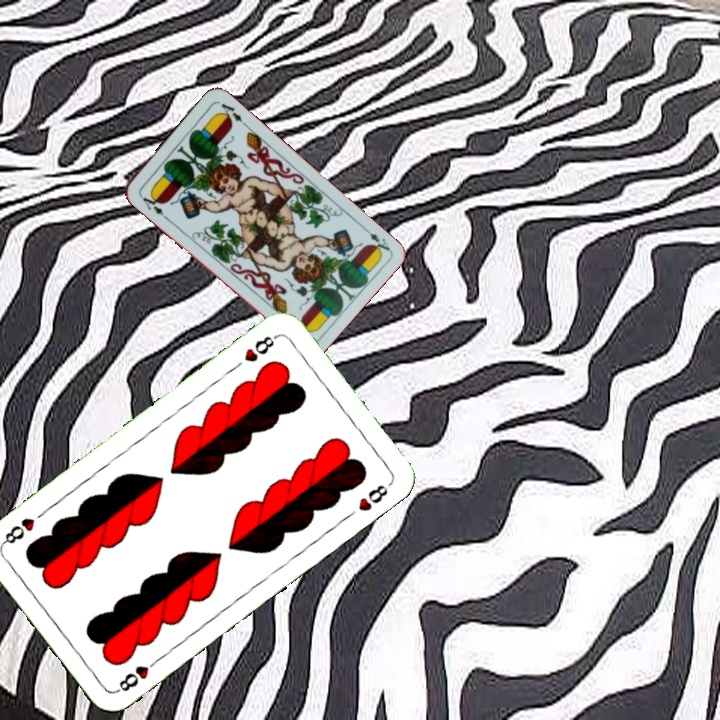EA: (359, 222, 393, 257), (135, 190, 169, 221)
H8: (112, 654, 162, 696), (240, 330, 281, 365)
